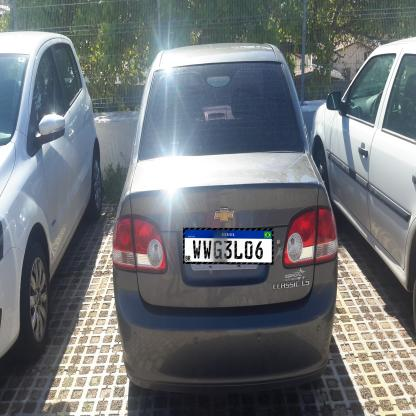PlacaM: (183, 228, 274, 264)
